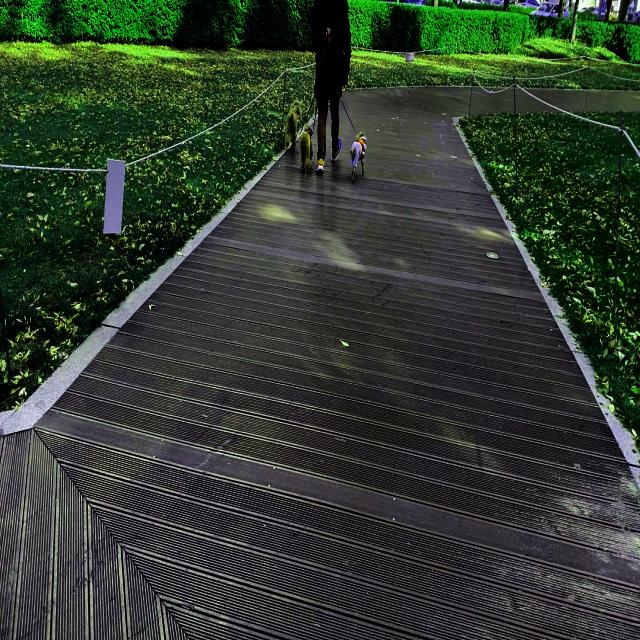Leashed_Dog: (322, 26, 367, 184), (284, 28, 332, 154), (300, 26, 332, 176)
